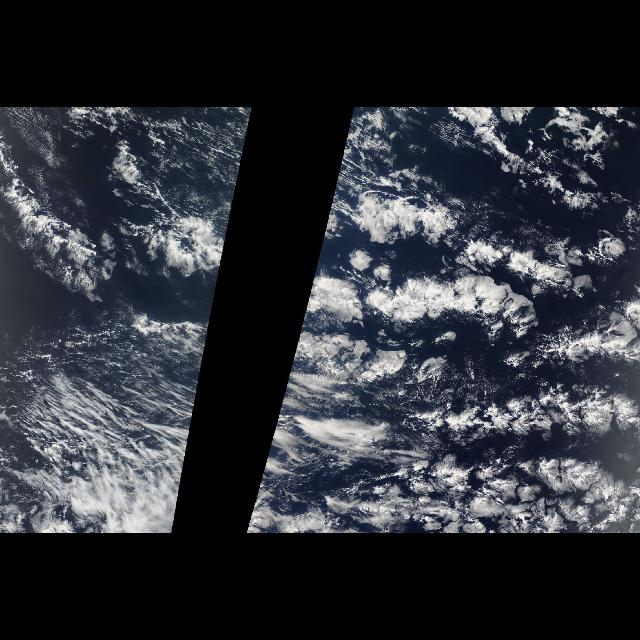Fish: (5, 158, 211, 286)
Flower: (361, 256, 639, 534)
